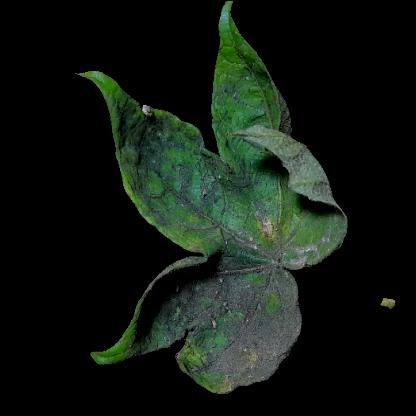curl_stage2: (288, 152, 319, 190)
sooty: (215, 261, 300, 381), (147, 113, 224, 203), (217, 208, 319, 255), (143, 277, 223, 333), (182, 306, 230, 372)
